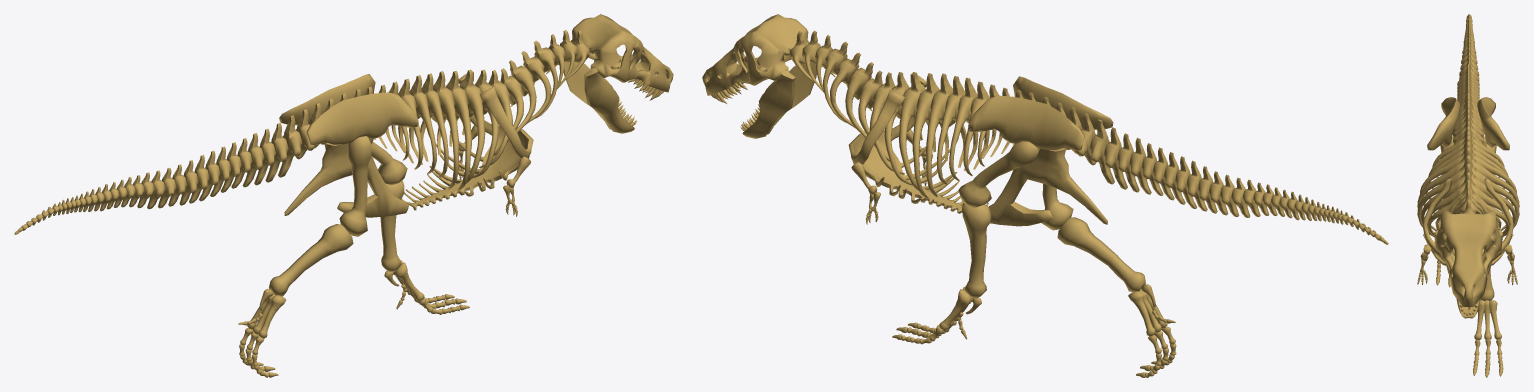
Rendered from dino3.fbx.
3 views of the same model, side by side, from view 1: azimuth 30°, elevation 25°; view 2: azimuth 150°, elevation 25°; view 3: azimuth 270°, elevation 25° (orthographic). The views are drawn at different scales.
Parts seen in each view (by area): view 1: Body, Leg, Tail, Head; view 2: Body, Leg, Tail, Head; view 3: Body, Head, Leg, Tail.
Part boxes in pixels (box(x1,y1,x2,y2)): Body: box(279, 30, 589, 217); Leg: box(238, 136, 469, 377); Tail: box(14, 115, 300, 234); Head: box(563, 14, 673, 133); Body: box(789, 30, 1113, 226); Leg: box(892, 141, 1176, 377); Tail: box(1091, 119, 1388, 244); Head: box(702, 14, 816, 138); Body: box(1417, 90, 1519, 285); Head: box(1434, 210, 1503, 318); Leg: box(1436, 136, 1503, 377); Tail: box(1457, 14, 1479, 107).
Bounding box in the file's own units: 3748 × 1409 × 577.
